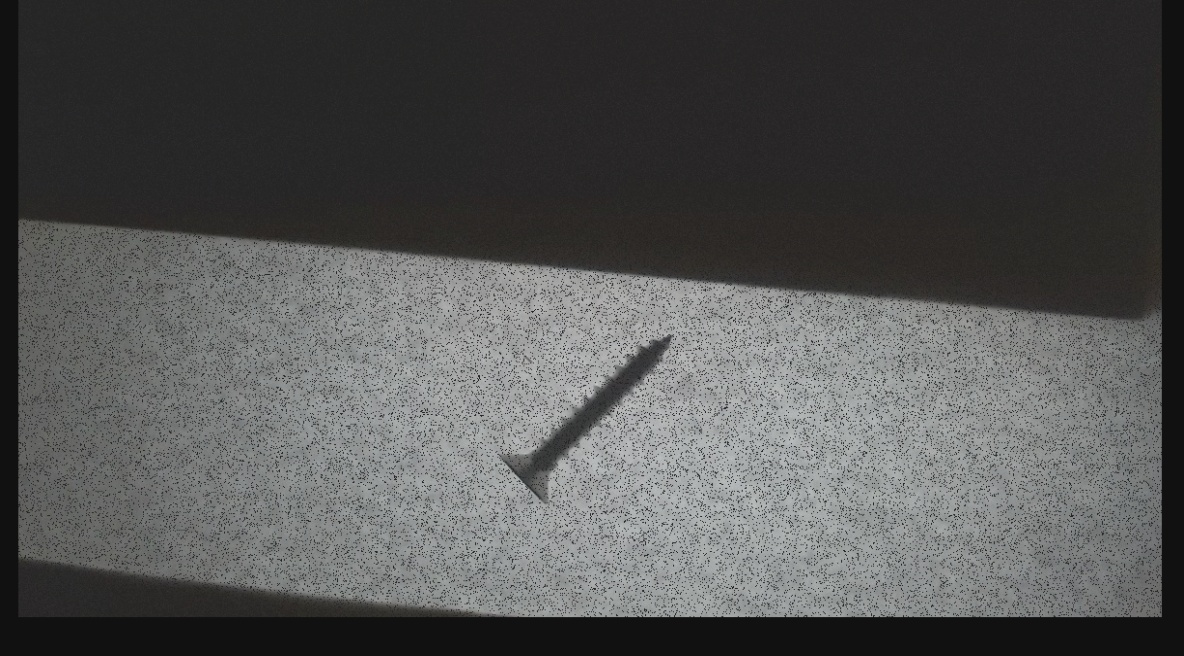S001: (481, 303, 683, 521)
